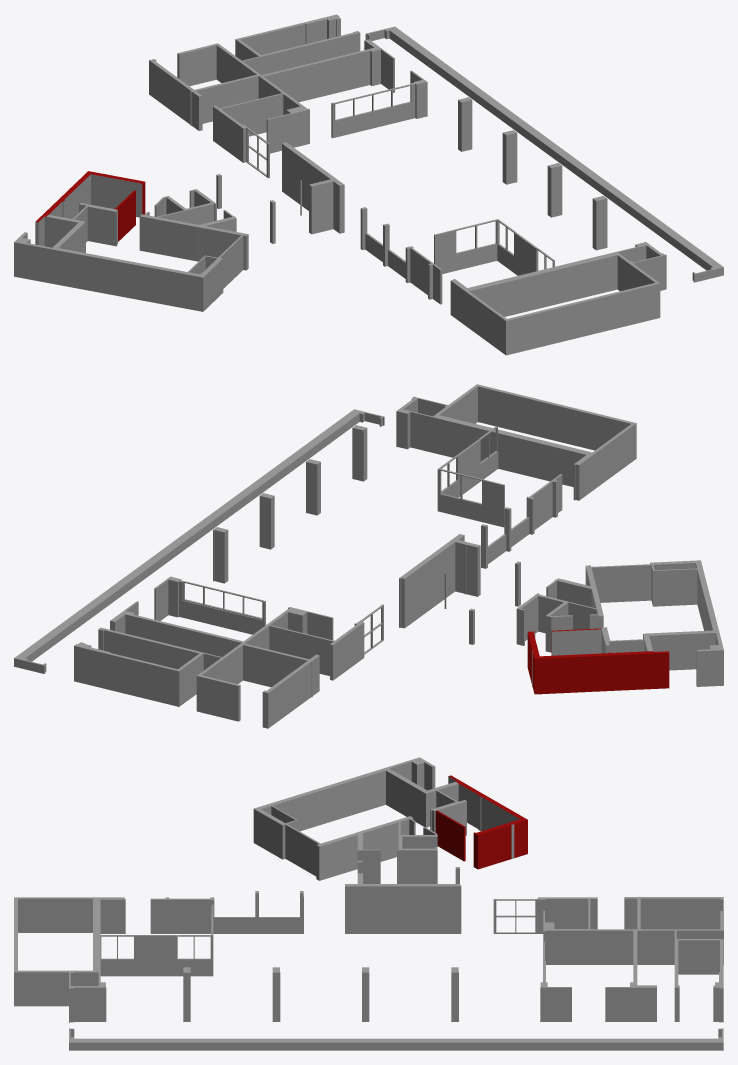
Rendered from walls.obj.
3 renders of one model, top to bottom at view 1: azimuth 30°, elevation 25°; view 2: azimuth 150°, elevation 25°; view 3: azimuth 270°, elevation 25°, orthographic. The views are drawn at different scales.
Visible parts, largest first — view 1: walls_Cube.001; view 2: walls_Cube.001; view 3: walls_Cube.001.
Boxes of the visible parts, box(x1,y1,x2,y2) form: walls_Cube.001: box(14, 14, 723, 355); walls_Cube.001: box(14, 384, 723, 728); walls_Cube.001: box(14, 757, 723, 1050).
Size of the model in its own units: 34.23 by 3.03 by 39.63.
